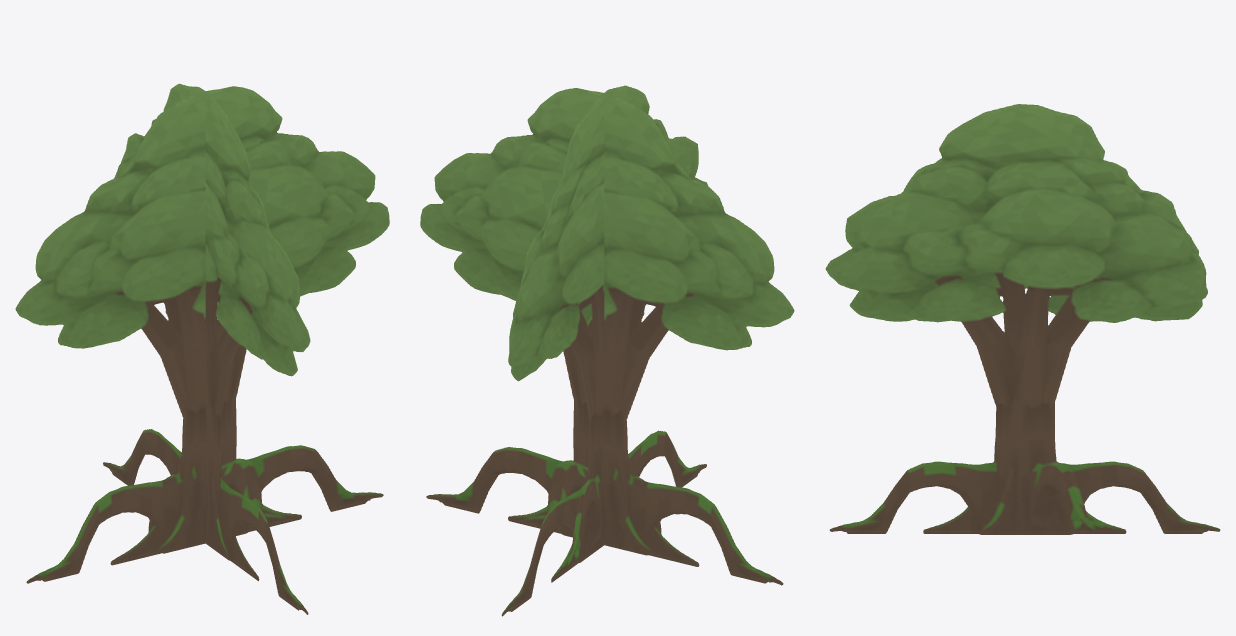
File: tree_ancient_far.glb
3 views of the same model, side by side, from view 1: azimuth 30°, elevation 25°; view 2: azimuth 150°, elevation 25°; view 3: azimuth 270°, elevation 25° (orthographic). The views are drawn at different scales.
Size of the model in its own units: 35.54 by 41 by 34.13.
1 material, 1 textured.
